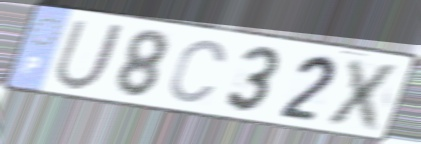2: (273, 50, 341, 126)
3: (225, 43, 284, 115)
8: (111, 27, 172, 101)
C: (166, 37, 230, 106)
U: (50, 17, 129, 93)
X: (321, 55, 408, 134)
